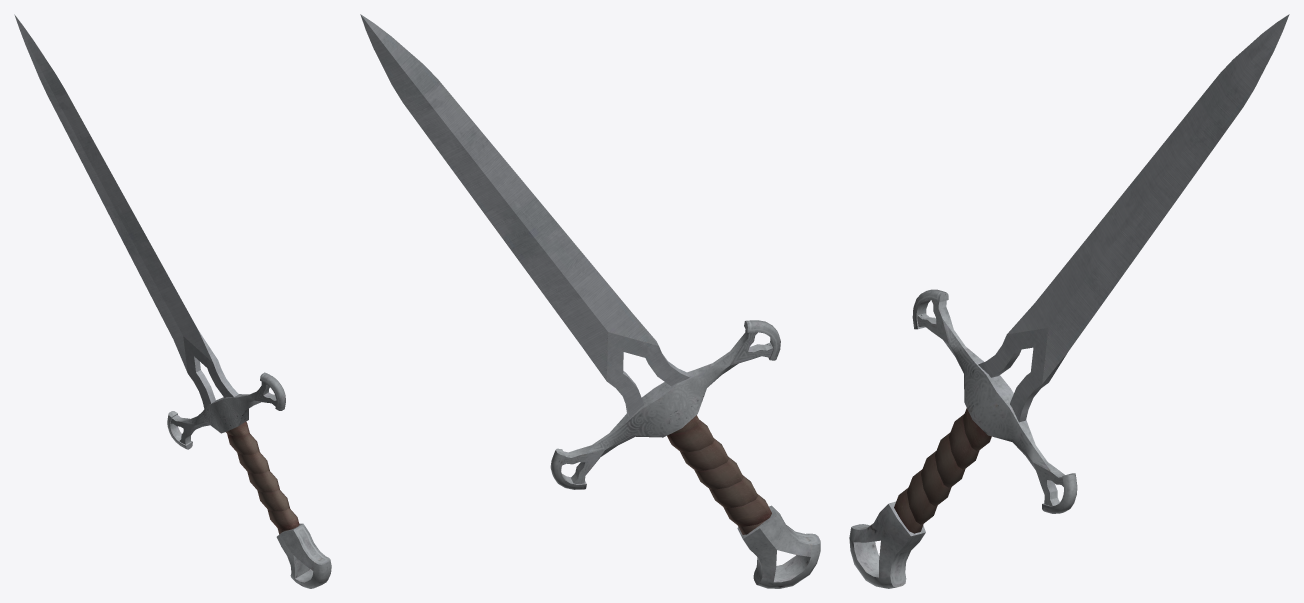
File: dagger.glb
3 views of the same model, side by side, from view 1: azimuth 90°, elevation 25°; view 2: azimuth 150°, elevation 25°; view 3: azimuth 270°, elevation 25° (orthographic). The views are drawn at different scales.
Visible parts, largest first — view 1: weapon; view 2: weapon; view 3: weapon.
Part boxes in pixels (left/top/right/bottom): weapon: left=14, top=14, right=331, bottom=588; weapon: left=360, top=14, right=820, bottom=588; weapon: left=849, top=14, right=1289, bottom=588.
Size of the model in its own units: 0.1276 by 0.32 by 0.187.
1 material, 1 textured.
